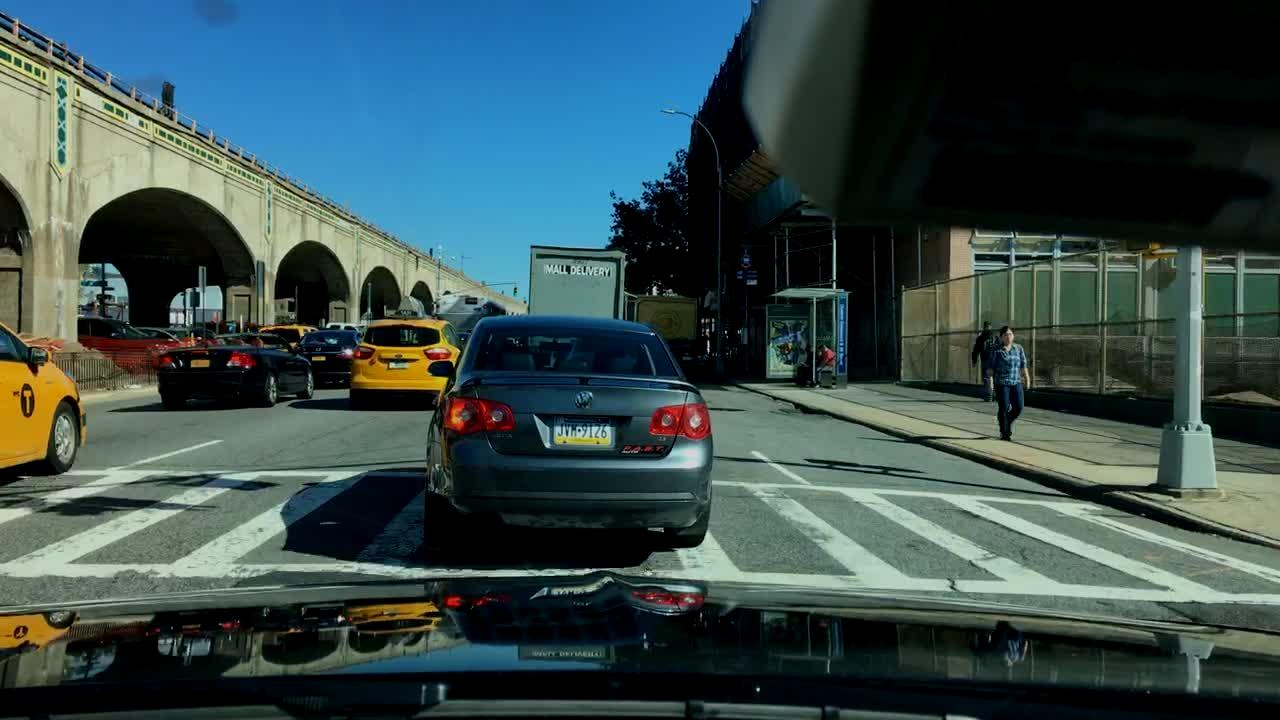Volkswagen: (571, 390, 595, 413)
